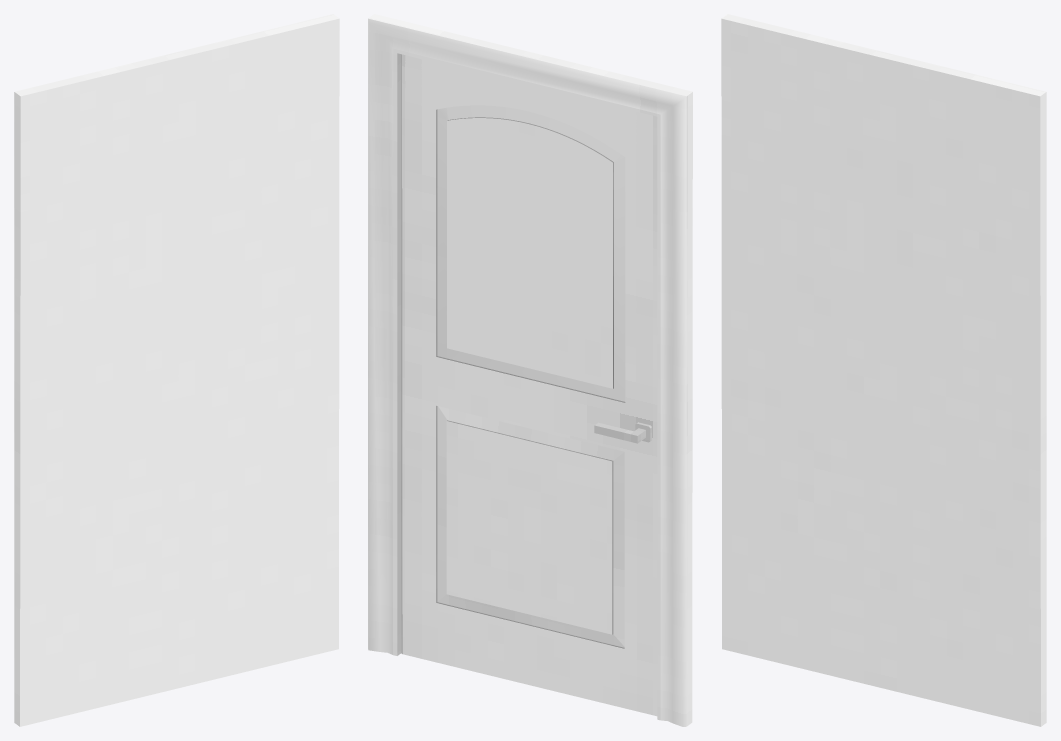
Rendered from DoorRomanPanelSnapToWall.glb.
3 renders of one model, left to right at view 1: azimuth 30°, elevation 25°; view 2: azimuth 150°, elevation 25°; view 3: azimuth 330°, elevation 25°, orthographic.
Parts seen in each view (by area): view 1: DoorRomanPanelSnapToWall; view 2: DoorRomanPanelSnapToWall; view 3: DoorRomanPanelSnapToWall.
Boxes of the visible parts, box(x1,y1,x2,y2) form: DoorRomanPanelSnapToWall: box(14, 14, 339, 726); DoorRomanPanelSnapToWall: box(368, 14, 692, 726); DoorRomanPanelSnapToWall: box(721, 14, 1046, 726).
Bounding box in the file's own units: 1.12 × 2.13 × 0.0835.
1 material, 1 textured.
